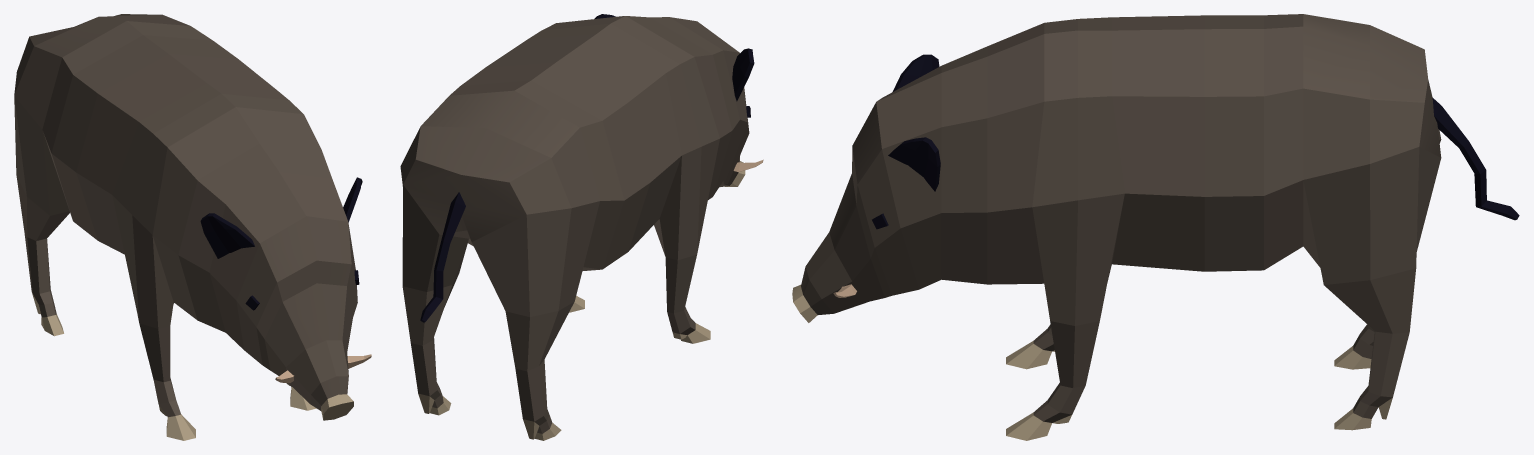
The model's file is animal-boar.glb.
3 renders of one model, left to right at view 1: azimuth 30°, elevation 25°; view 2: azimuth 150°, elevation 25°; view 3: azimuth 270°, elevation 25°, orthographic. The views are drawn at different scales.
Parts seen in each view (by area): view 1: Geo_Boar; view 2: Geo_Boar; view 3: Geo_Boar.
Boxes of the visible parts, <box> form: Geo_Boar: <box>14,14,371,440</box>; Geo_Boar: <box>400,14,763,440</box>; Geo_Boar: <box>792,14,1519,440</box>.
Size of the model in its own units: 58.24 by 94.19 by 168.
1 material, 1 textured.
